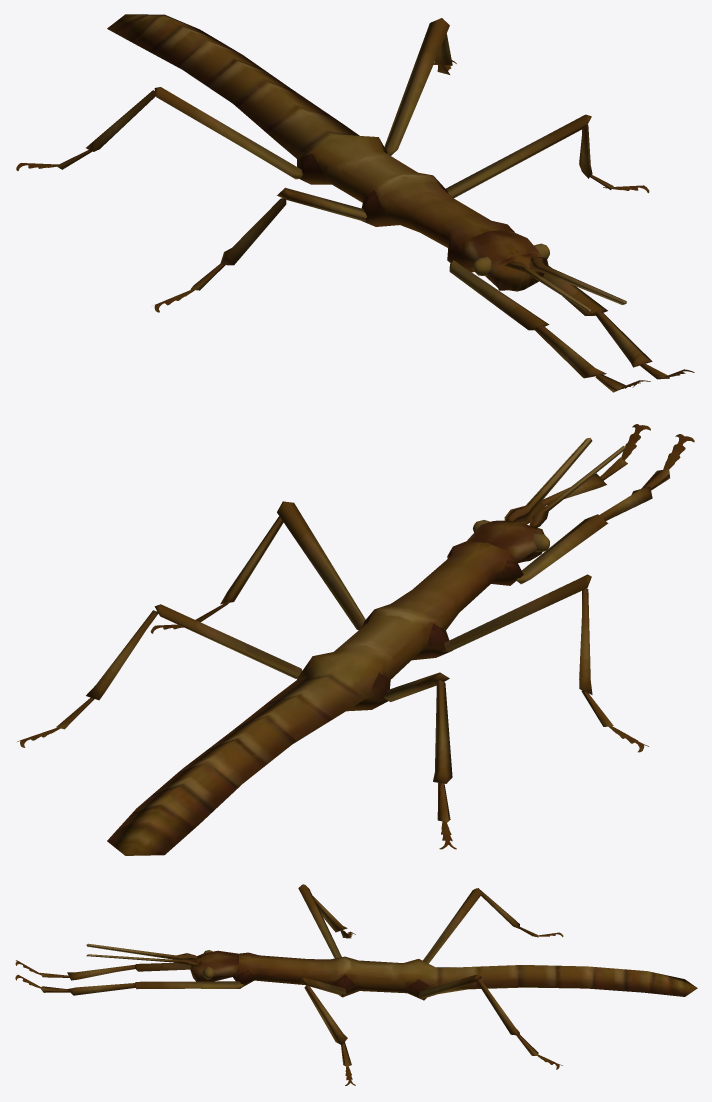
File: walking-stick.glb
3 views of the same model, one above another, from view 1: azimuth 30°, elevation 25°; view 2: azimuth 150°, elevation 25°; view 3: azimuth 270°, elevation 25° (orthographic). The views are drawn at different scales.
Size of the model in its own units: 2.96 by 0.7168 by 5.56.
1 material, 1 textured.
